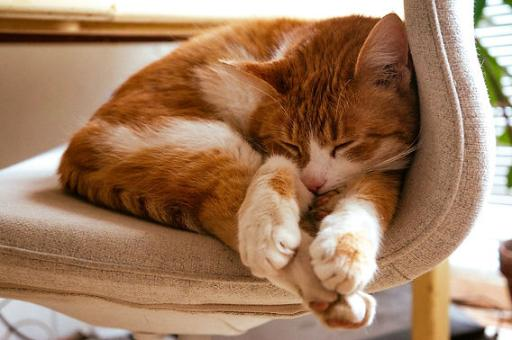cat_sleeping: (59, 14, 418, 327)
